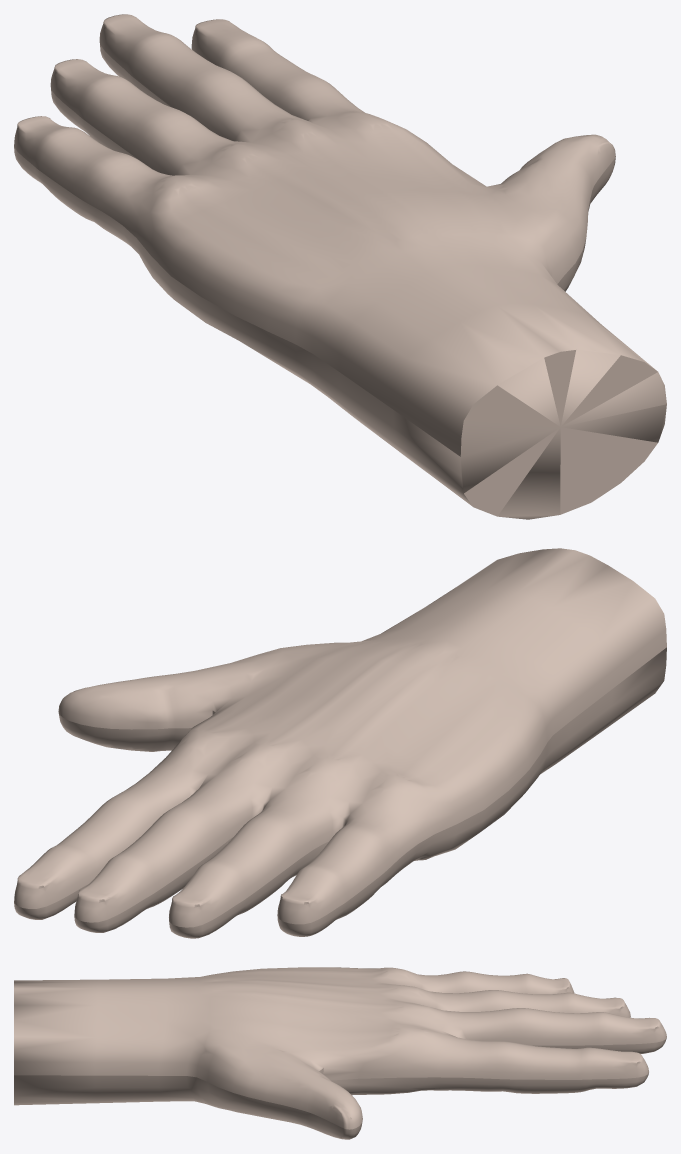
File: LHandOpen.dae
The picture shows the model from 3 angles, top to bottom: view 1: azimuth 30°, elevation 25°; view 2: azimuth 150°, elevation 25°; view 3: azimuth 270°, elevation 25°; orthographic projection. The views are drawn at different scales.
Parts seen in each view (by area): view 1: ShapeIndexedFaceSet; view 2: ShapeIndexedFaceSet; view 3: ShapeIndexedFaceSet.
Boxes of the visible parts, x1,y1,x2,y2 form: ShapeIndexedFaceSet: (14, 14, 666, 519); ShapeIndexedFaceSet: (14, 548, 666, 938); ShapeIndexedFaceSet: (14, 967, 666, 1139).
Bounding box in the file's own units: 0.1184 × 0.2236 × 0.0427.
